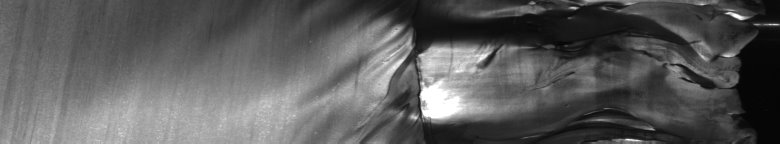ke: (375, 4, 636, 132)
